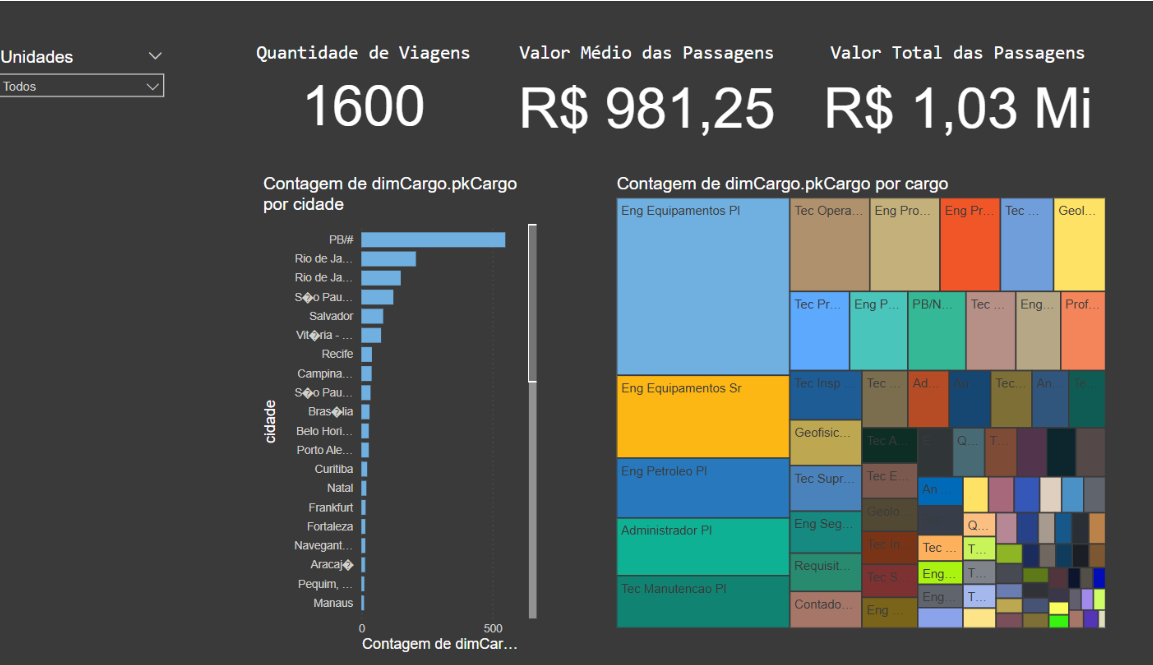

Layout of this report page (visuals, bound fields, positions):
{"tool":"powerbi","page":{"name":"Página 2","canvas":[1280,720],"ordinal":1},"visuals":[{"type":"card","title":"Valor Total das Passagens","fields":{"Values":["Sum(fatoValorPassagem.Valor de Passagem Aerea (R$))"]},"box":[903.4,45.4,329.7,108.9],"z":0},{"type":"card","title":"Quantidade de Viagens","fields":{"Values":["CountNonNull(fatoValorPassagem.dimCargo.pkCargo)"]},"box":[269.2,45.4,315.1,105],"z":1000},{"type":"slicer","fields":{"Values":["dimUnidade.unidade"]},"box":[22.2,45.4,200.4,71],"z":2000},{"type":"card","title":"Valor Médio das Passagens","fields":{"Values":["Avg(fatoValorPassagem.Valor de Passagem Aerea (R$))"]},"box":[562,45.4,341.4,108.9],"z":3000},{"type":"clusteredBarChart","fields":{"Category":["dimCidade (2).cidade"],"Y":["CountNonNull(fatoValorPassagem.dimCargo.pkCargo)"]},"box":[313.5,186.9,304.6,520.7],"z":6000},{"type":"treemap","fields":{"Group":["dimCargo.cargo"],"Values":["CountNonNull(fatoValorPassagem.dimCargo.pkCargo)"]},"box":[695.2,186.9,537.6,495.1],"z":7000}]}

Visuals, with their boxes in screenshot pixels (x1, y1, x2, y2), scaled from the page's 1280x720 canvas onto the 1153x665 screenshot:
"Valor Total das Passagens" card: {"left": 814, "top": 42, "right": 1111, "bottom": 143}
"Quantidade de Viagens" card: {"left": 242, "top": 42, "right": 526, "bottom": 139}
slicer - dimUnidade.unidade: {"left": 20, "top": 42, "right": 201, "bottom": 108}
"Valor Médio das Passagens" card: {"left": 506, "top": 42, "right": 814, "bottom": 143}
clusteredBarChart - dimCidade (2).cidade x CountNonNull(fatoValorPassagem.dimCargo.pkCargo): {"left": 282, "top": 173, "right": 557, "bottom": 654}
treemap - dimCargo.cargo x CountNonNull(fatoValorPassagem.dimCargo.pkCargo): {"left": 626, "top": 173, "right": 1110, "bottom": 630}
